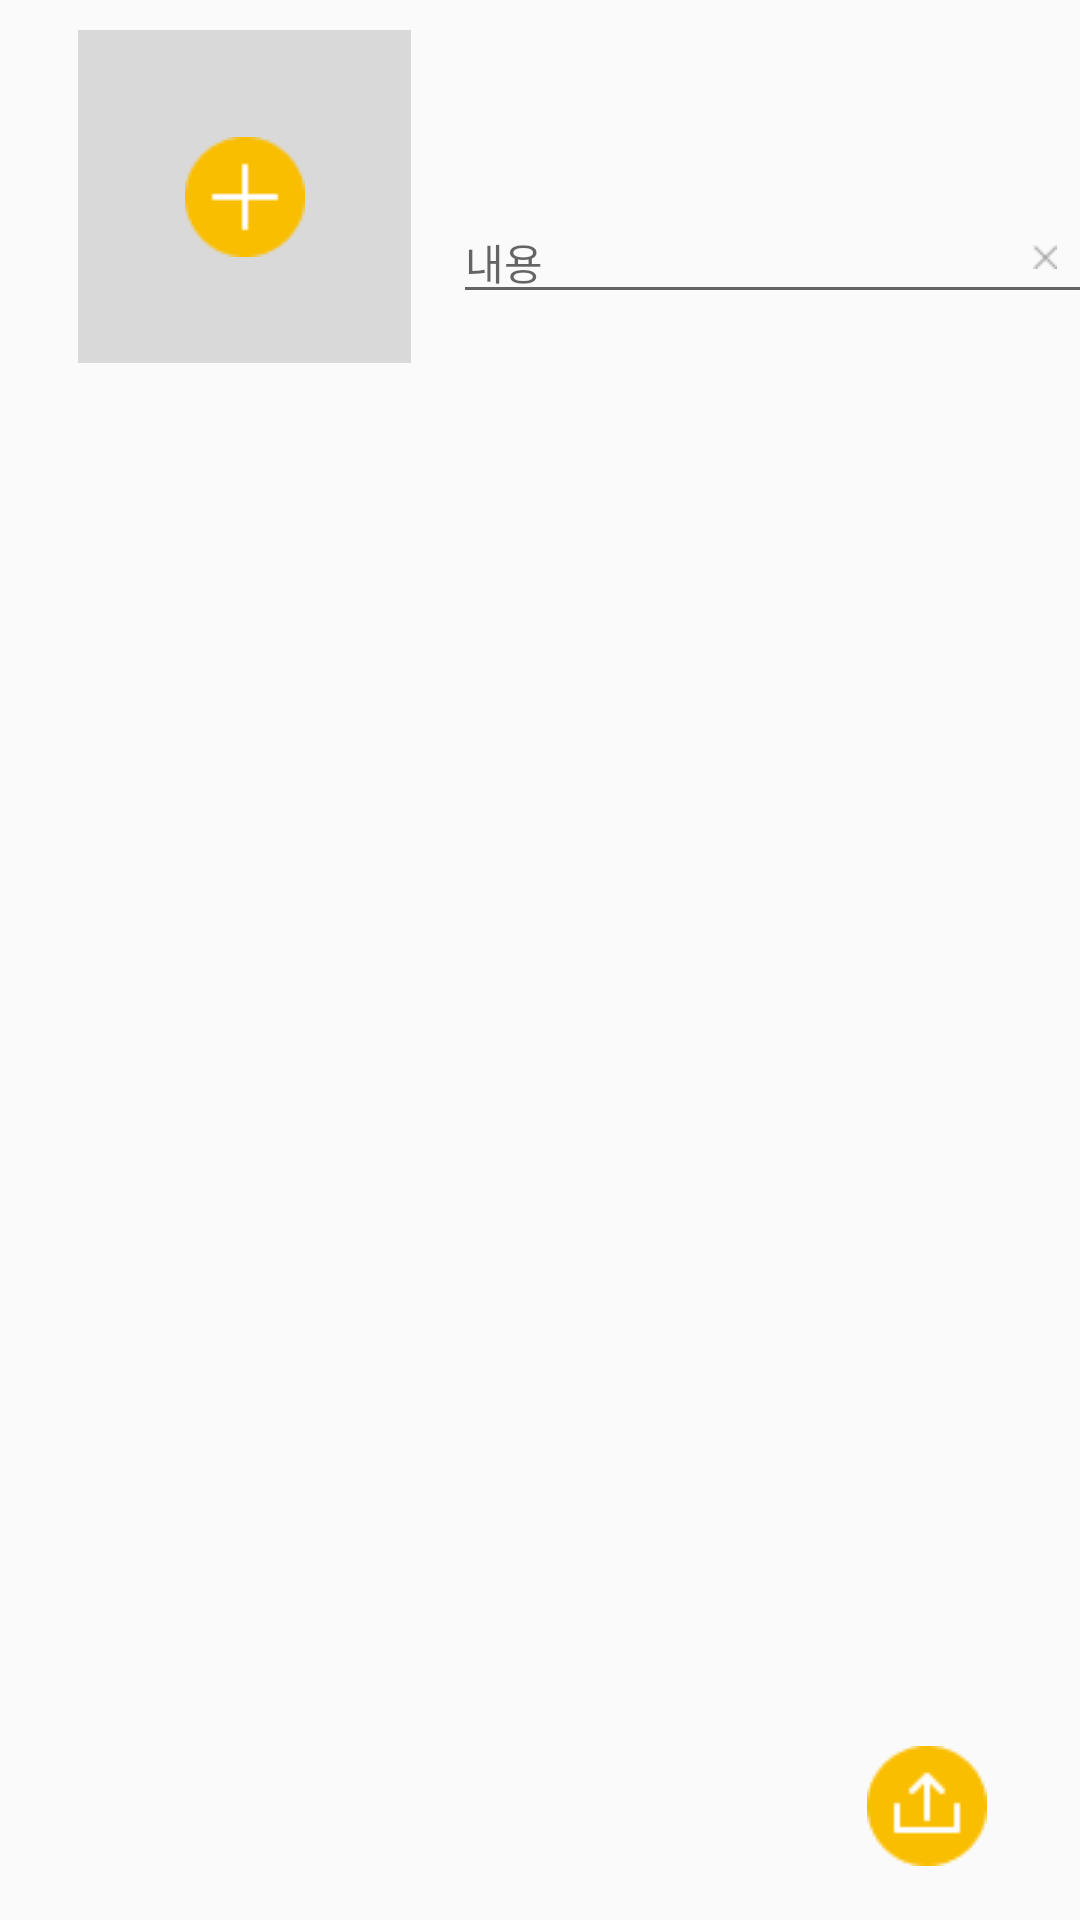

Where to tap for icons on this 1080x1920 app screen, as [x,y]:
cross: [1045,257]
upload: [927,1806]
